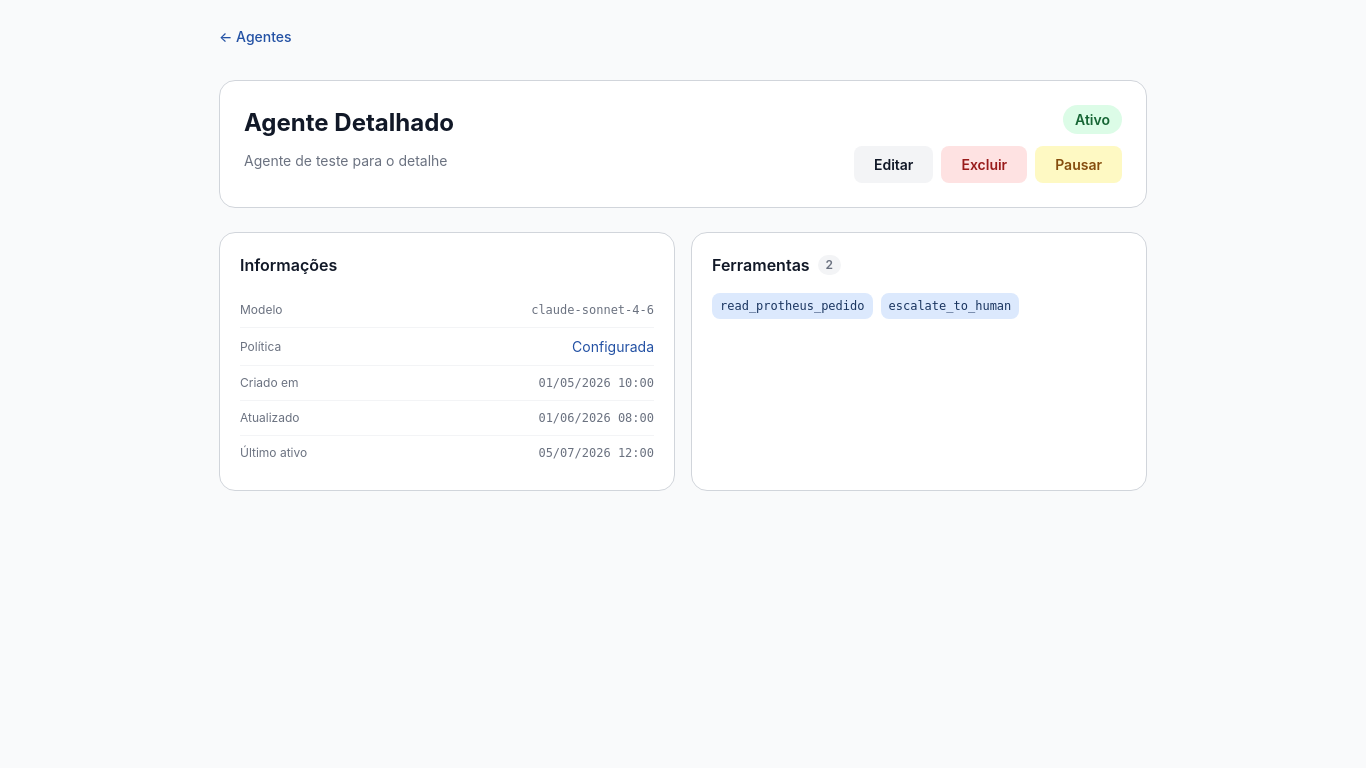
Test: AgenteDetailComponent — excluir › exibe erro no modal quando DELETE falha
Click the button with class "agente-detail__btn--excluir": (984, 164) [941,146,1027,183]
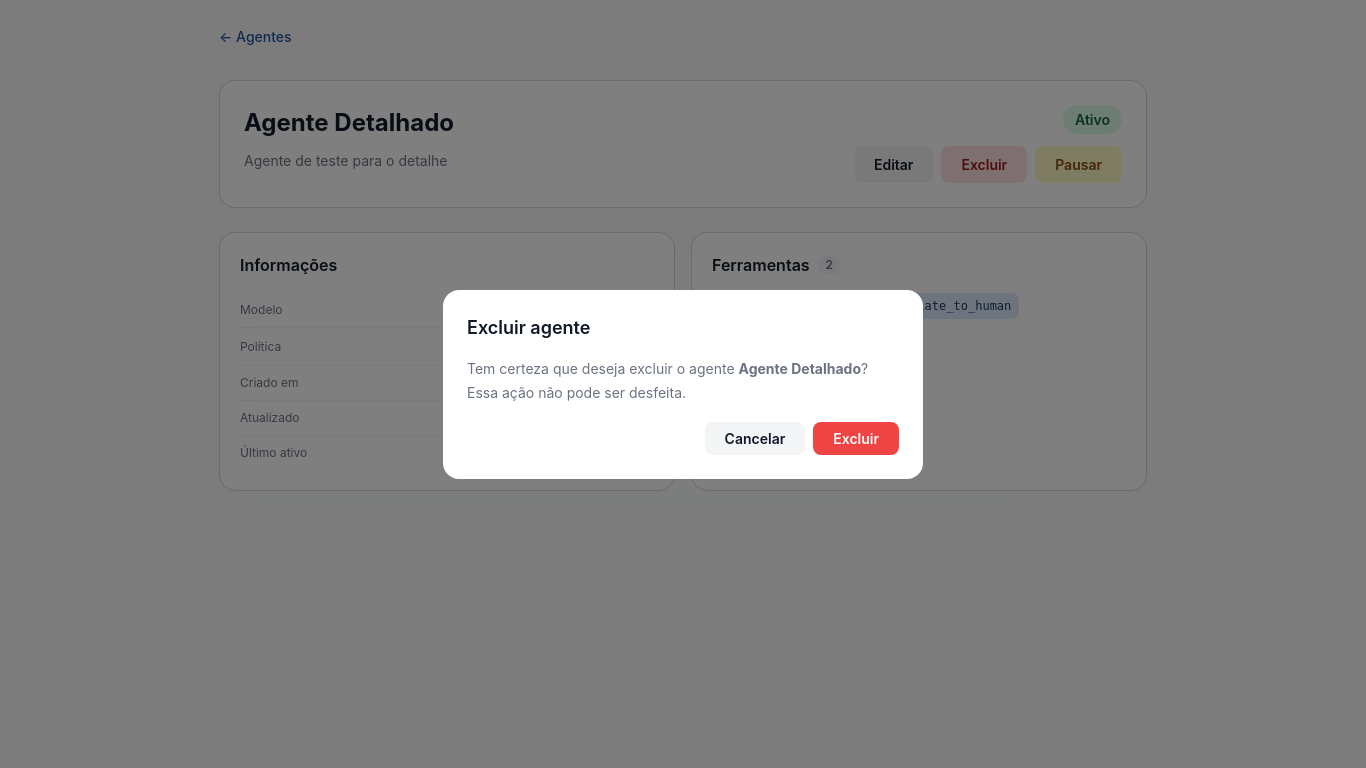
Click the button with class "agente-detail__btn--confirmar-excluir": (856, 438) [813,422,899,454]
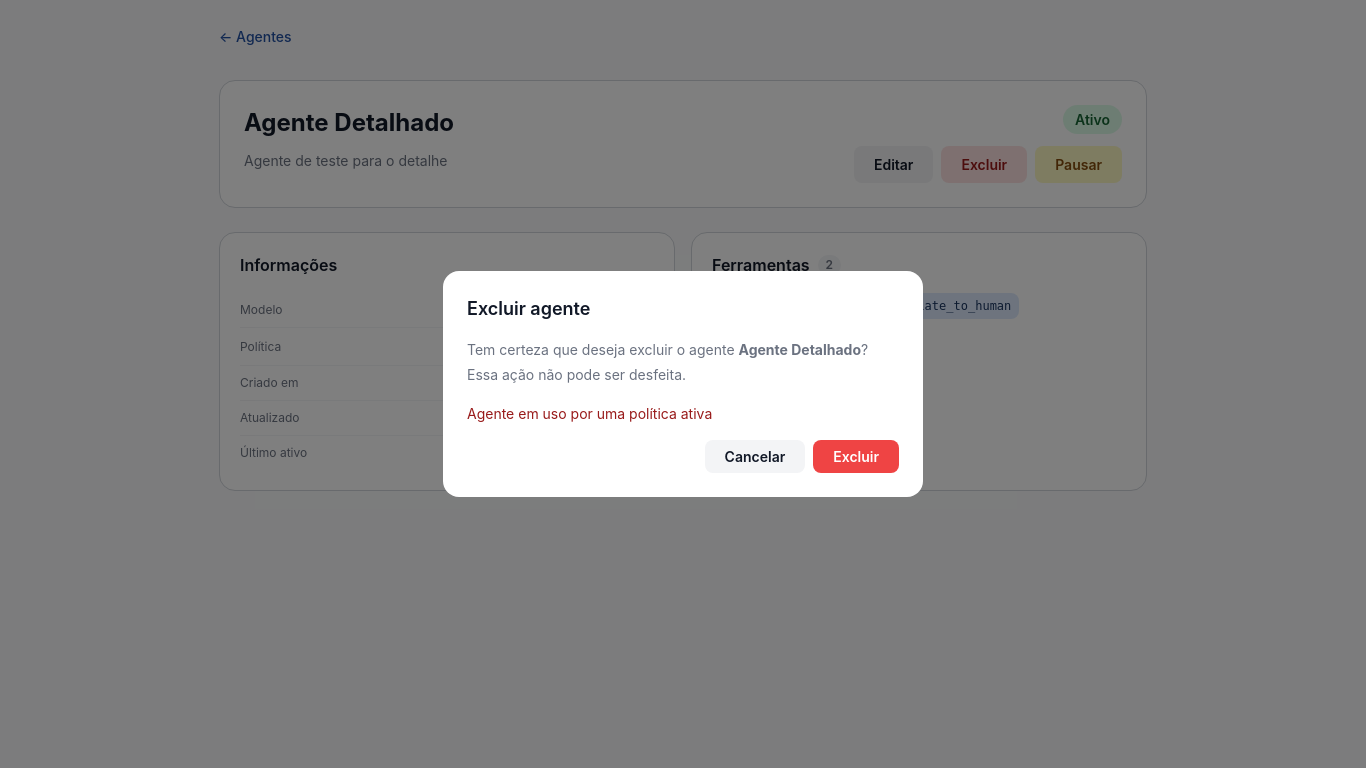
expect the message with class "agente-detail__modal-erro" shows "Agente em uso": met, box [467,405,712,422]
